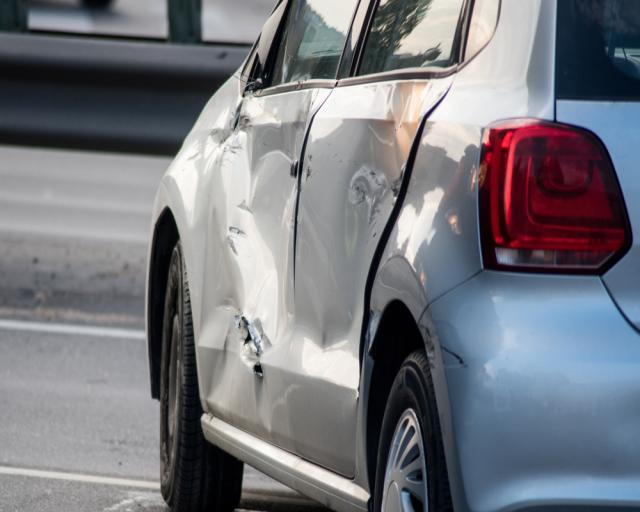crack: (243, 320, 267, 383)
dent: (287, 82, 429, 373), (199, 88, 312, 418)
scratch: (420, 319, 470, 372)
